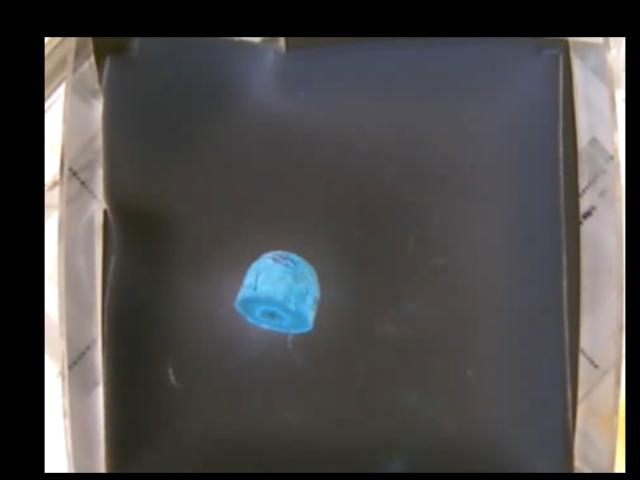Carrot: (237, 248, 318, 334)
